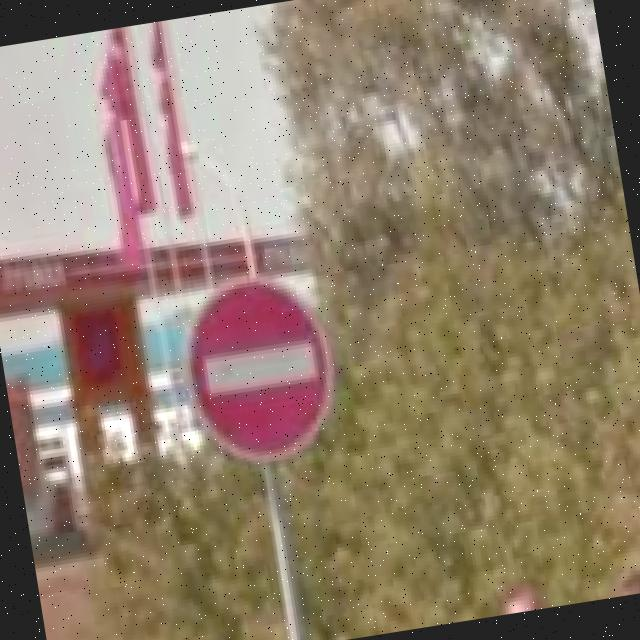Zakaz wjazdu: (172, 264, 347, 473)
